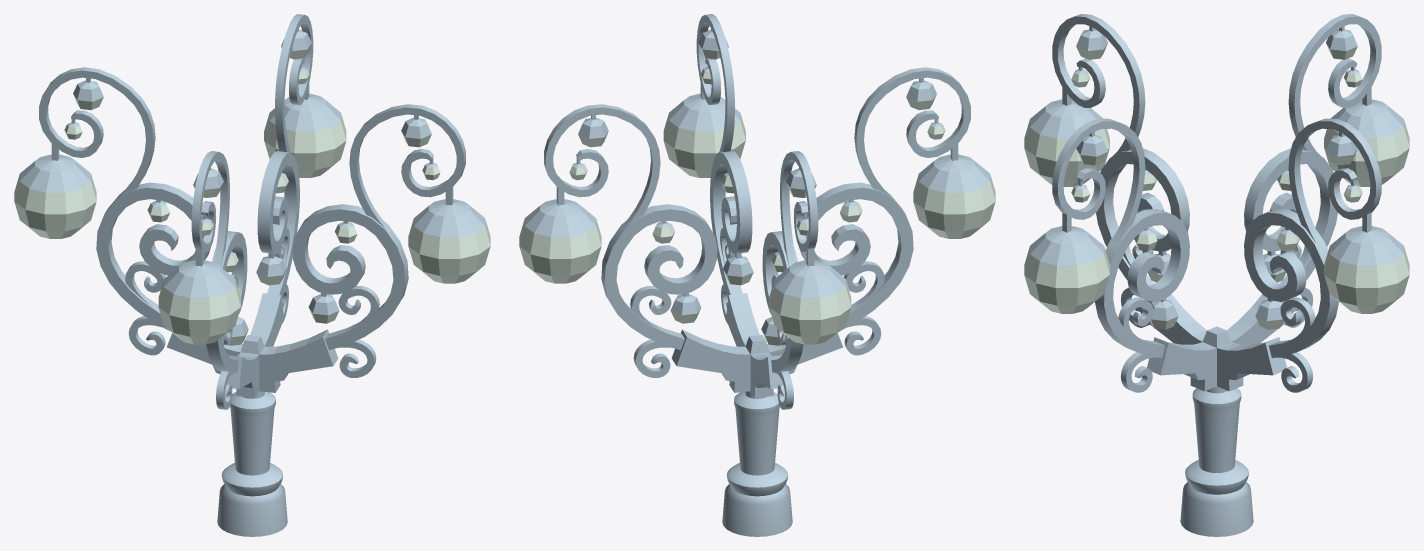
File: streetlight_29.fbx
3 renders of one model, left to right at view 1: azimuth 30°, elevation 25°; view 2: azimuth 150°, elevation 25°; view 3: azimuth 270°, elevation 25°, orthographic. The views are drawn at different scales.
Visible parts, largest first — view 1: pSphere35 (×4), pPlane28 (×4), pPlane27 (×4), streetlight_29, pPlane24, pPlane29 (×2), pPlane26 (×2), pSphere37 (×2), pSphere39 (×2), pPlane32, pPlane34, pPlane33; view 2: pSphere35 (×4), pPlane28 (×4), pPlane27 (×4), streetlight_29, pPlane32, pPlane29 (×2), pPlane26 (×2), pSphere37 (×2), pSphere39 (×2), pPlane24, pPlane33, pPlane34; view 3: pSphere35 (×4), pPlane28 (×4), pPlane27 (×4), streetlight_29, pSphere37 (×4), pPlane24, pPlane32, pPlane29 (×2), pPlane26 (×2), pSphere39 (×2), pPlane33, pPlane34.
Boxes of the visible parts, x1=… form: pSphere35 (×4): x1=14, y1=93, x2=490, y2=344; pPlane28 (×4): x1=96, y1=150, x2=408, y2=372; pPlane27 (×4): x1=39, y1=14, x2=465, y2=266; streetlight_29: x1=217, y1=391, x2=287, y2=536; pPlane24: x1=259, y1=329, x2=338, y2=392; pPlane29 (×2): x1=128, y1=316, x2=376, y2=377; pPlane26 (×2): x1=125, y1=261, x2=379, y2=328; pSphere37 (×2): x1=73, y1=80, x2=431, y2=147; pSphere39 (×2): x1=256, y1=256, x2=339, y2=323; pPlane32: x1=250, y1=293, x2=283, y2=346; pPlane34: x1=227, y1=352, x2=259, y2=397; pPlane33: x1=167, y1=333, x2=242, y2=373; pSphere35 (×4): x1=519, y1=93, x2=995, y2=344; pPlane28 (×4): x1=601, y1=150, x2=913, y2=372; pPlane27 (×4): x1=544, y1=14, x2=970, y2=266; streetlight_29: x1=722, y1=391, x2=792, y2=536; pPlane32: x1=671, y1=329, x2=750, y2=392; pPlane29 (×2): x1=633, y1=316, x2=881, y2=377; pPlane26 (×2): x1=630, y1=261, x2=884, y2=328; pSphere37 (×2): x1=578, y1=80, x2=936, y2=147; pSphere39 (×2): x1=670, y1=256, x2=753, y2=323; pPlane24: x1=726, y1=293, x2=759, y2=346; pPlane33: x1=750, y1=352, x2=782, y2=397; pPlane34: x1=767, y1=333, x2=842, y2=373; pSphere35 (×4): x1=1024, y1=99, x2=1409, y2=313; pPlane28 (×4): x1=1095, y1=148, x2=1338, y2=357; pPlane27 (×4): x1=1052, y1=14, x2=1381, y2=243; streetlight_29: x1=1180, y1=386, x2=1253, y2=536; pSphere37 (×4): x1=1076, y1=29, x2=1357, y2=165; pPlane24: x1=1147, y1=337, x2=1216, y2=391; pPlane32: x1=1217, y1=337, x2=1286, y2=391; pPlane29 (×2): x1=1120, y1=352, x2=1313, y2=392; pPlane26 (×2): x1=1118, y1=297, x2=1315, y2=339; pSphere39 (×2): x1=1150, y1=299, x2=1283, y2=329; pPlane33: x1=1227, y1=294, x2=1285, y2=344; pPlane34: x1=1148, y1=294, x2=1206, y2=344.
Bounding box in the file's own units: 6.04 × 7.8 × 6.04.
